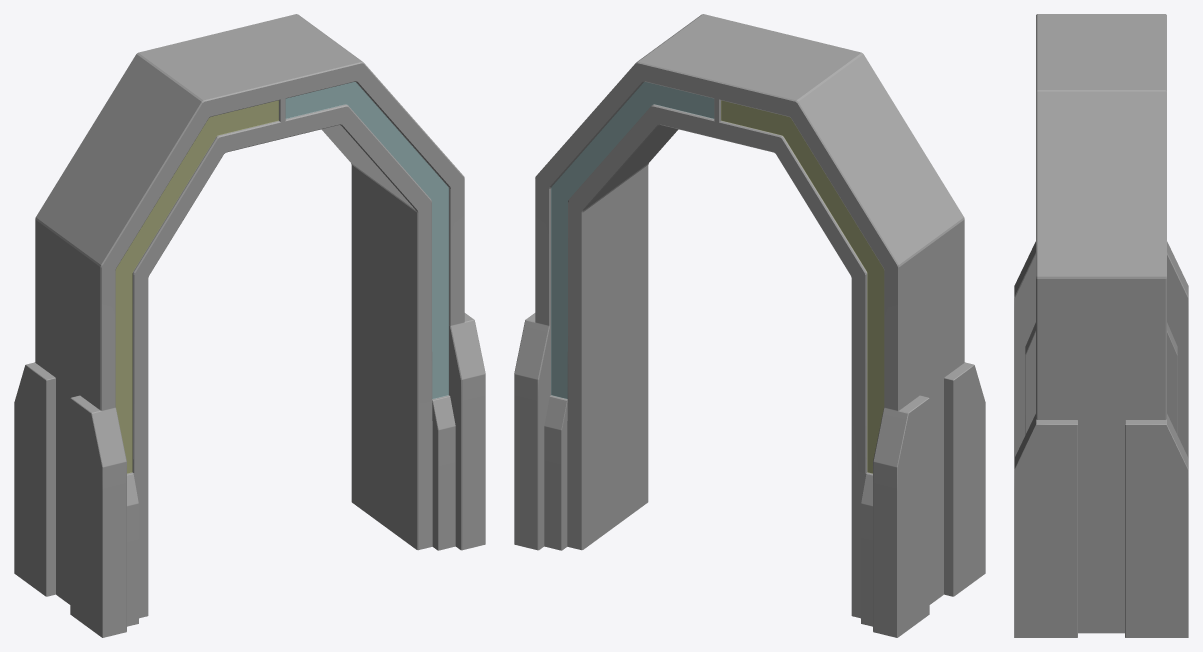
Rendered from SM_Gate.fbx.
3 renders of one model, left to right at view 1: azimuth 30°, elevation 25°; view 2: azimuth 150°, elevation 25°; view 3: azimuth 270°, elevation 25°, orthographic.
Parts seen in each view (by area): view 1: SM_GateFrame; view 2: SM_GateFrame; view 3: SM_GateFrame.
Boxes of the visible parts, x1,y1,x2,y2 form: SM_GateFrame: (14, 14, 485, 637); SM_GateFrame: (514, 14, 985, 637); SM_GateFrame: (1014, 14, 1188, 637).
Size of the model in its own units: 400 by 500 by 160.
